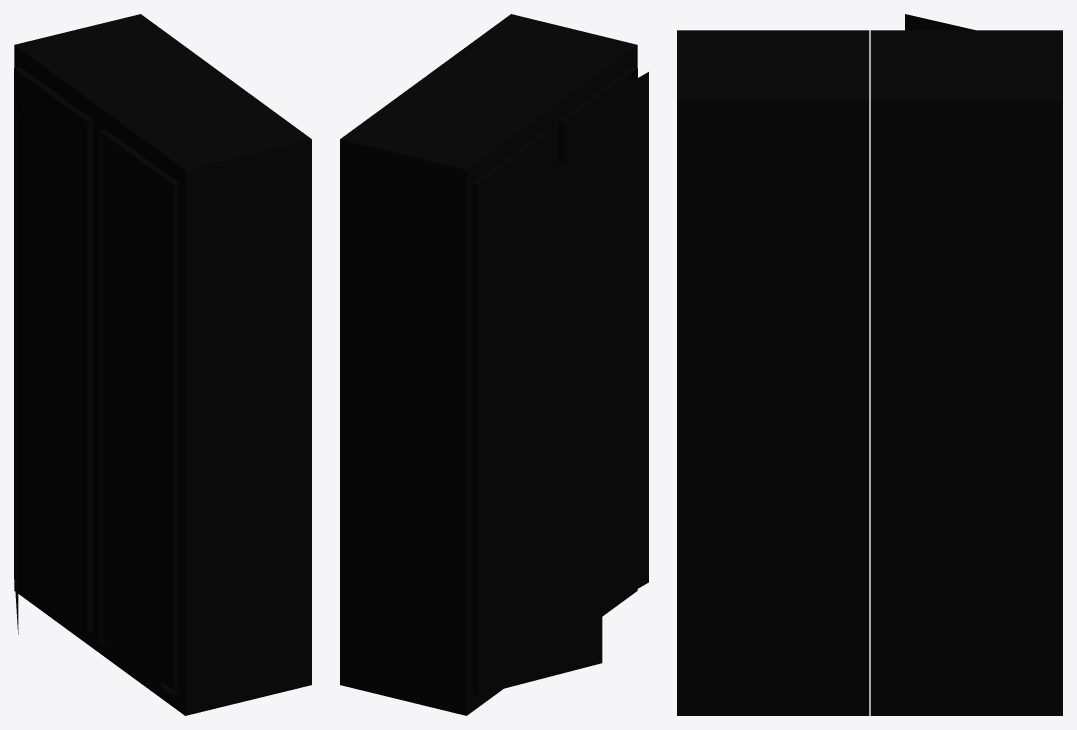
The model's file is Locker.fbx.
3 views of the same model, side by side, from view 1: azimuth 30°, elevation 25°; view 2: azimuth 150°, elevation 25°; view 3: azimuth 270°, elevation 25° (orthographic). The views are drawn at different scales.
Parts seen in each view (by area): view 1: Cube.001; view 2: Cube.001; view 3: Cube.001.
Part boxes in pixels (x1,y1,x2,y2): Cube.001: [14, 14, 311, 715]; Cube.001: [340, 14, 648, 715]; Cube.001: [677, 14, 1062, 715].
Bounding box in the file's own units: 304 × 824 × 468.
